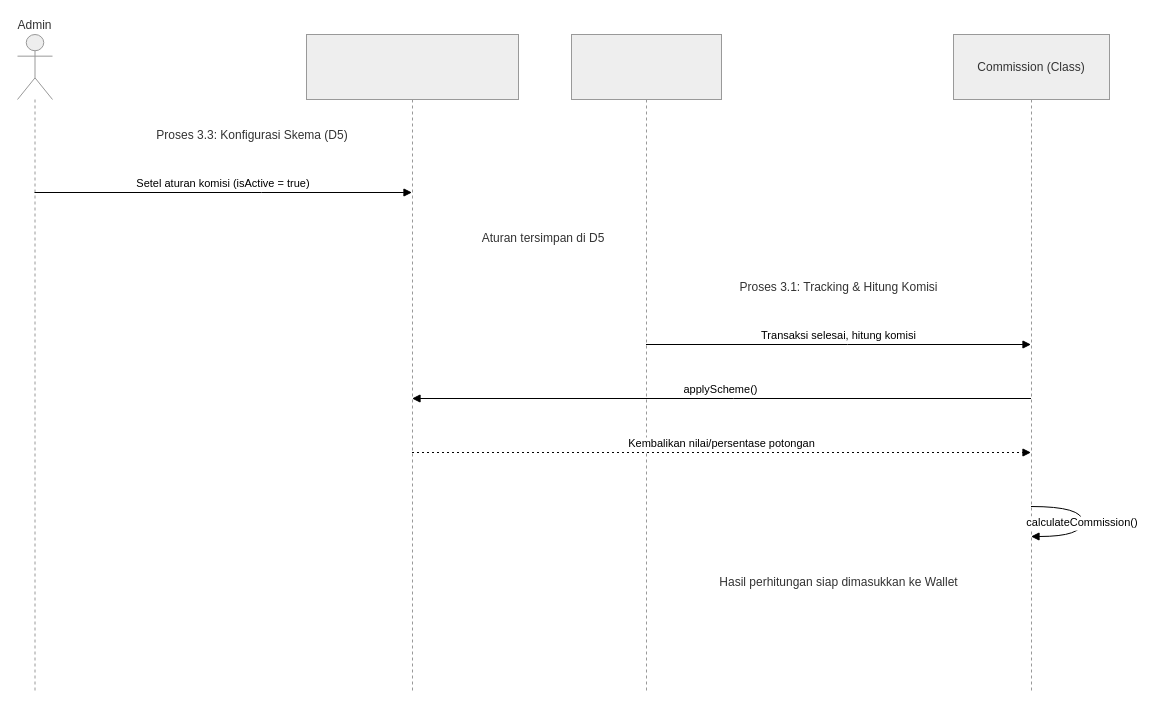
This 1157x708 diagram has some shape labels left out. Each missing label, with the box of its shape:
CommissionScheme (Class): (306, 34, 518, 690)
Transaction (Class): (570, 34, 722, 690)
